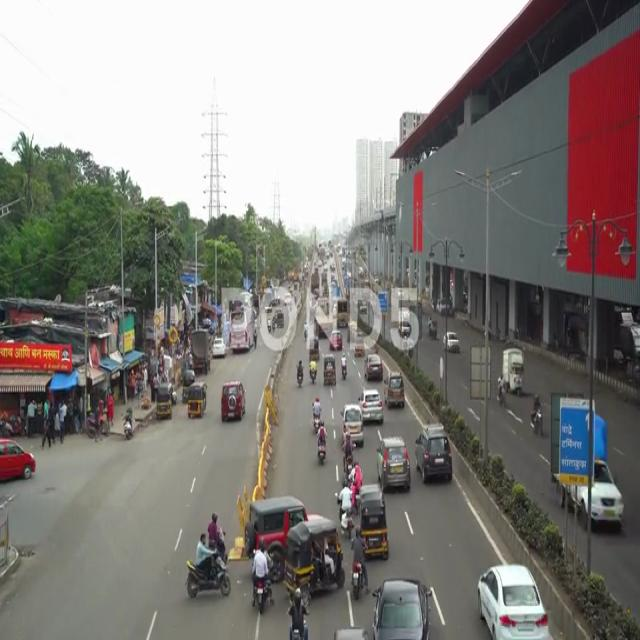car: (473, 559, 553, 640), (371, 571, 439, 640), (415, 422, 452, 484), (378, 438, 409, 493), (220, 382, 248, 424), (359, 386, 386, 424), (342, 399, 364, 441), (385, 372, 407, 409)
motorbike: (187, 536, 230, 600), (282, 582, 310, 640), (350, 529, 371, 599), (250, 542, 268, 614), (529, 391, 548, 444), (339, 478, 352, 533), (316, 420, 330, 471)
rikshaw: (187, 382, 209, 424)
truck: (502, 346, 526, 399)
